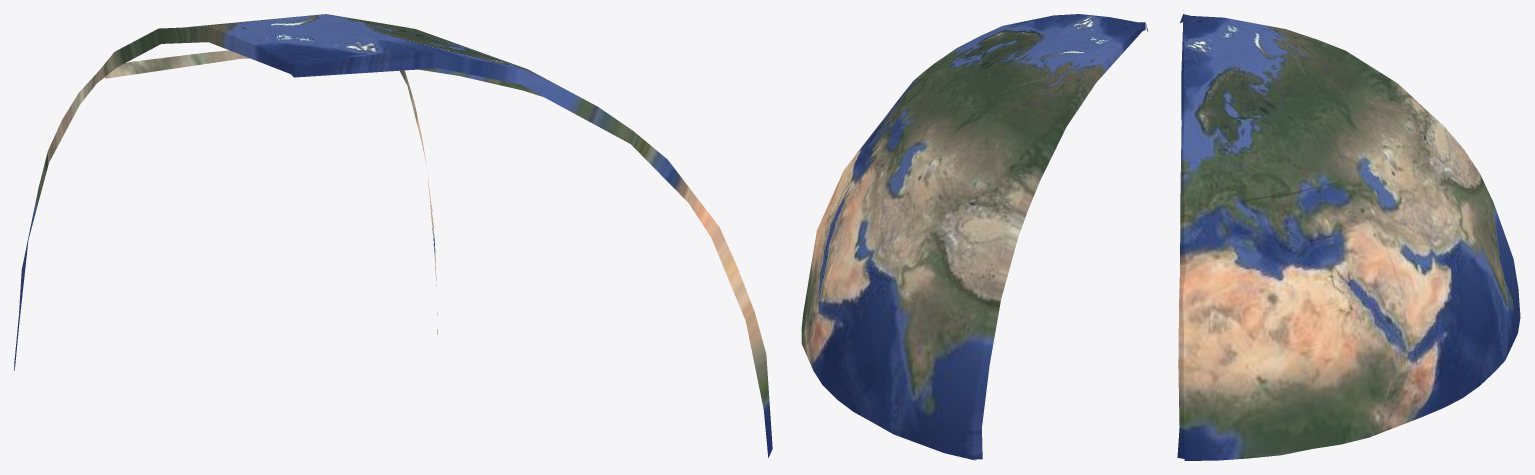
The picture shows the model from 3 angles, left to right: view 1: azimuth 30°, elevation 25°; view 2: azimuth 150°, elevation 25°; view 3: azimuth 270°, elevation 25°; orthographic projection. The views are drawn at different scales.
Size of the model in its own units: 6489191 by 6485040 by 6527802.
1 material, 1 textured.
